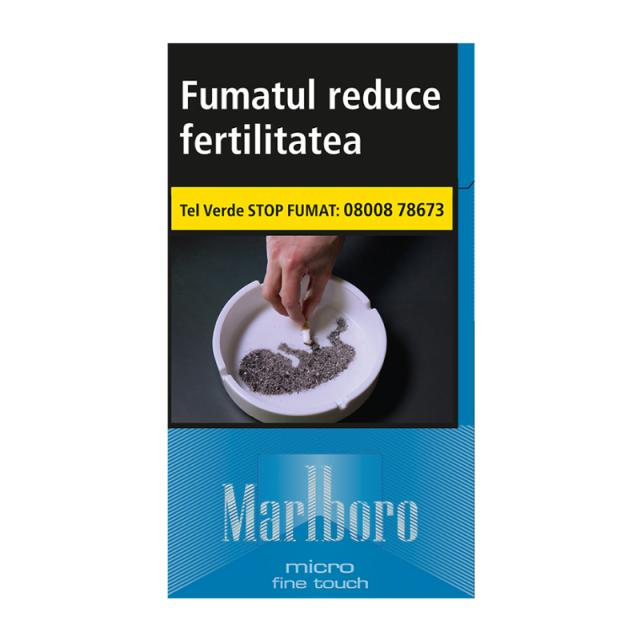marlboro: (152, 35, 489, 612)
